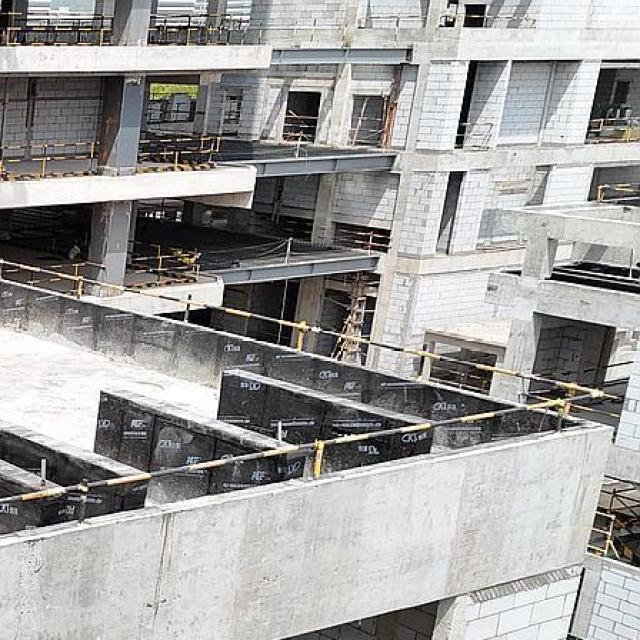edge_guardrail: (0, 256, 606, 524), (519, 360, 634, 420), (0, 135, 100, 182), (0, 11, 114, 47), (124, 238, 203, 288), (147, 12, 252, 47), (3, 259, 106, 294), (136, 135, 221, 172), (551, 264, 640, 289), (334, 228, 392, 251), (587, 117, 640, 142), (251, 214, 313, 235), (454, 122, 494, 148), (595, 180, 640, 203), (349, 115, 384, 144), (438, 13, 493, 28), (283, 115, 318, 138)
